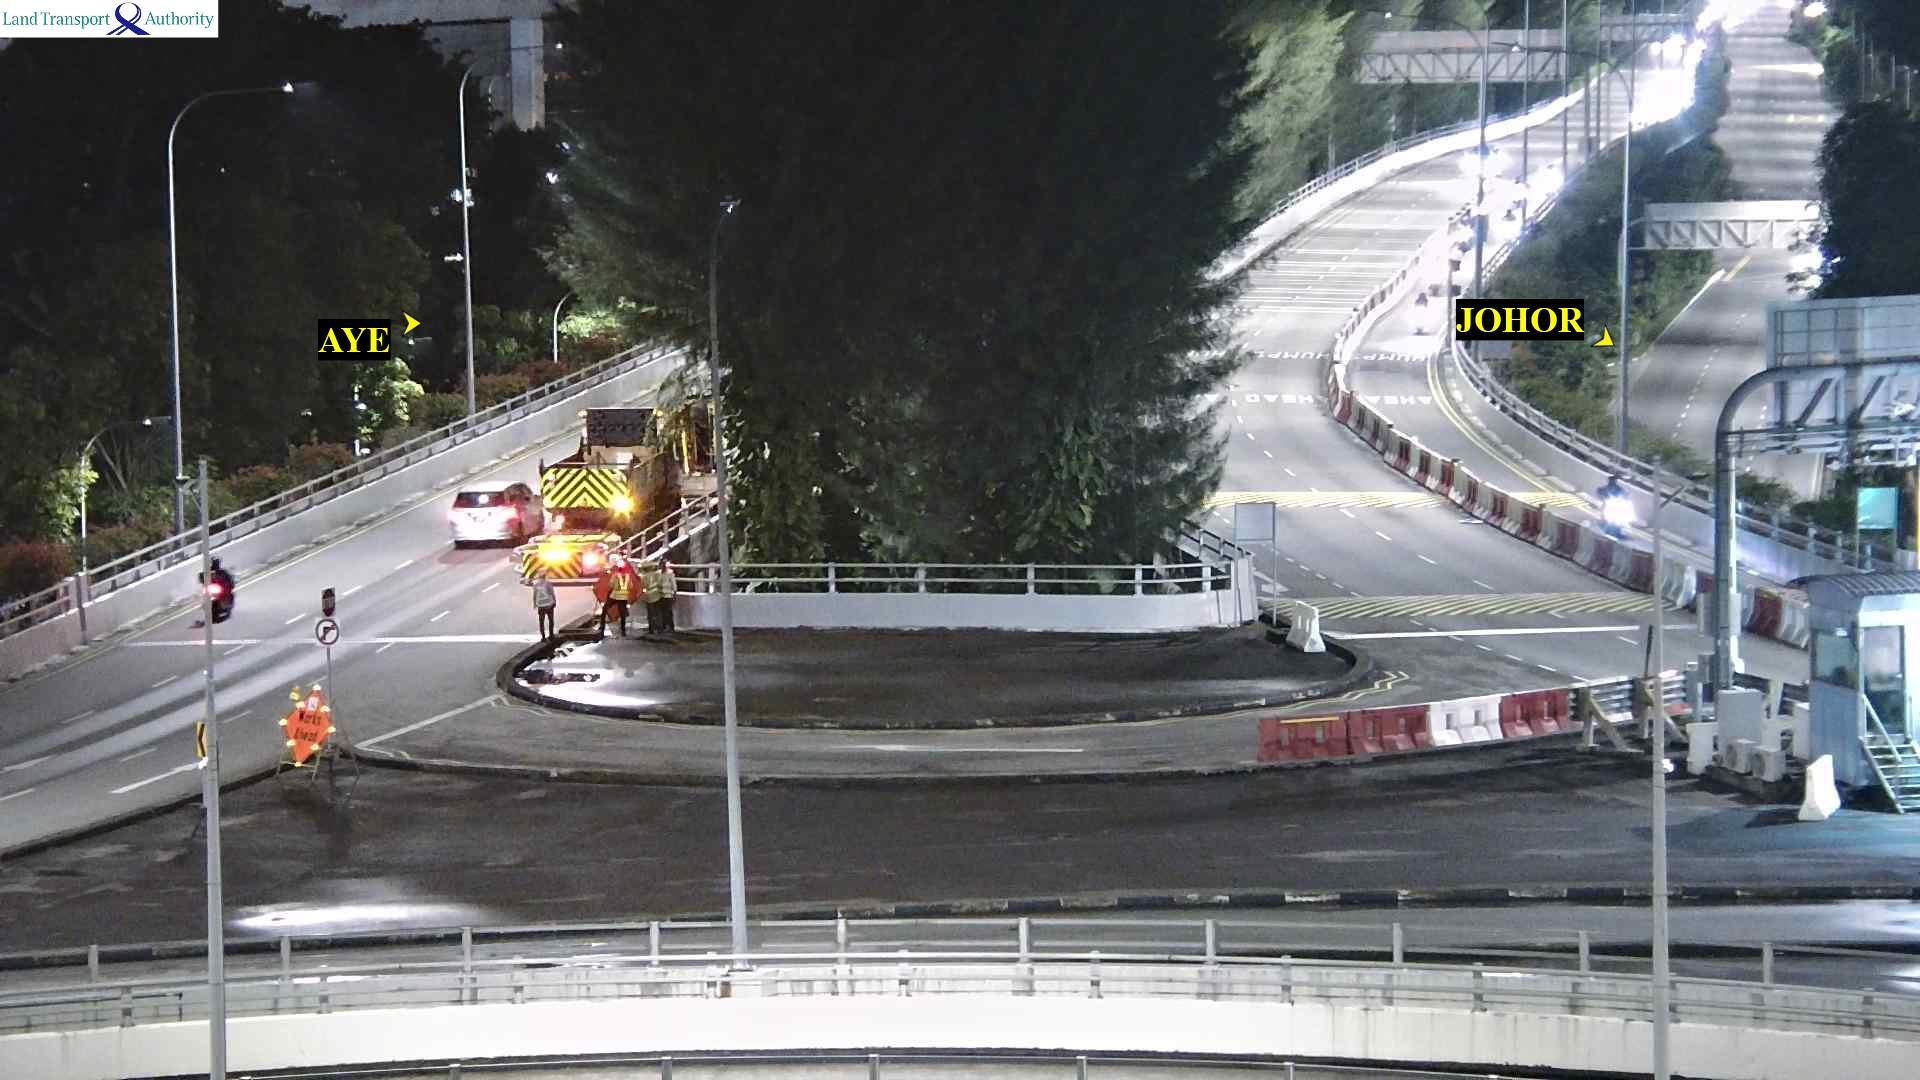vehicle-secondlink-johor: (1597, 467, 1626, 533), (1410, 294, 1429, 330)
vehicle-secondlink-singapore: (457, 484, 539, 549), (587, 403, 664, 447), (202, 561, 239, 621)
